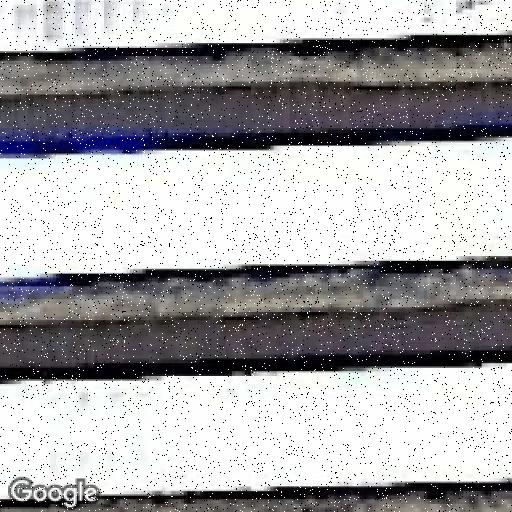solar-panel: (0, 133, 512, 288), (0, 357, 512, 507), (0, 0, 512, 61)
